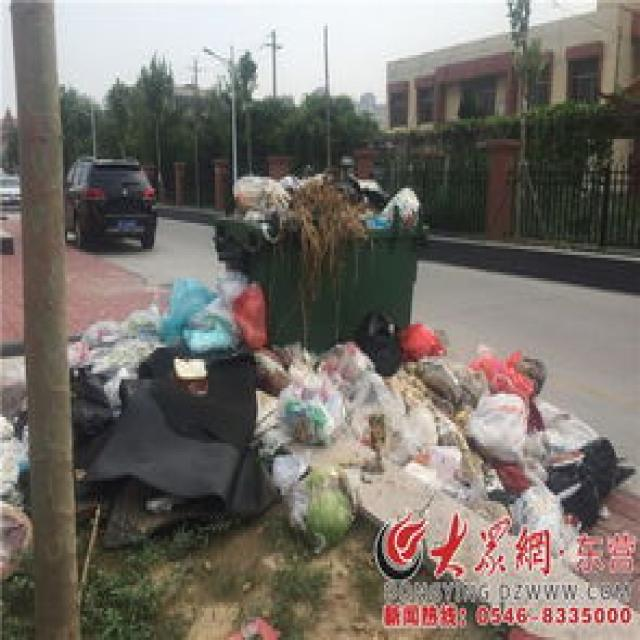garbage: (68, 266, 632, 548)
overflow: (210, 160, 423, 348)
